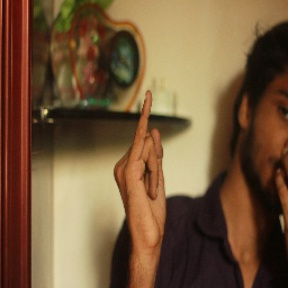I: (110, 88, 172, 244)
